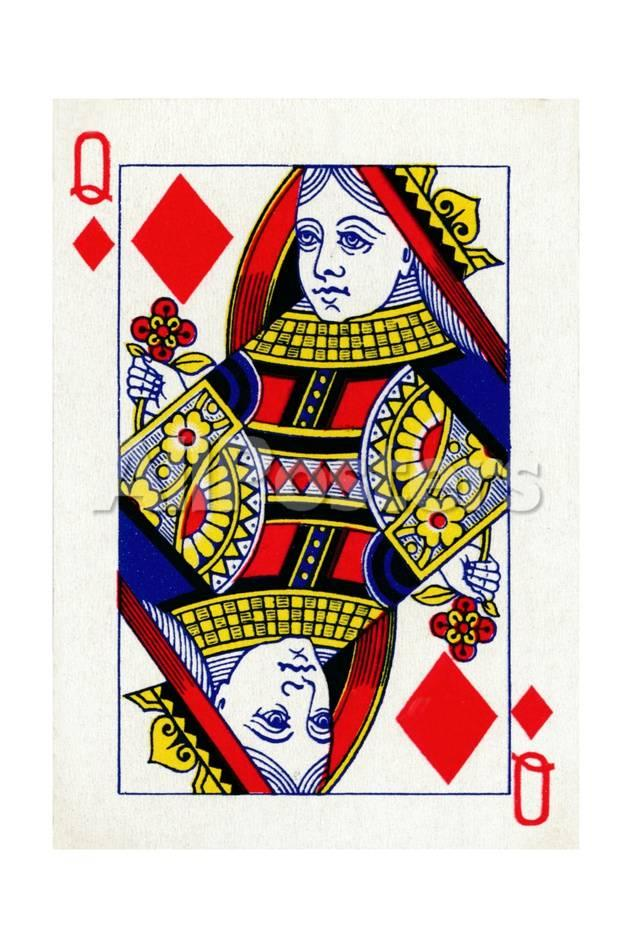queen of diamonds: (47, 90, 583, 853)
